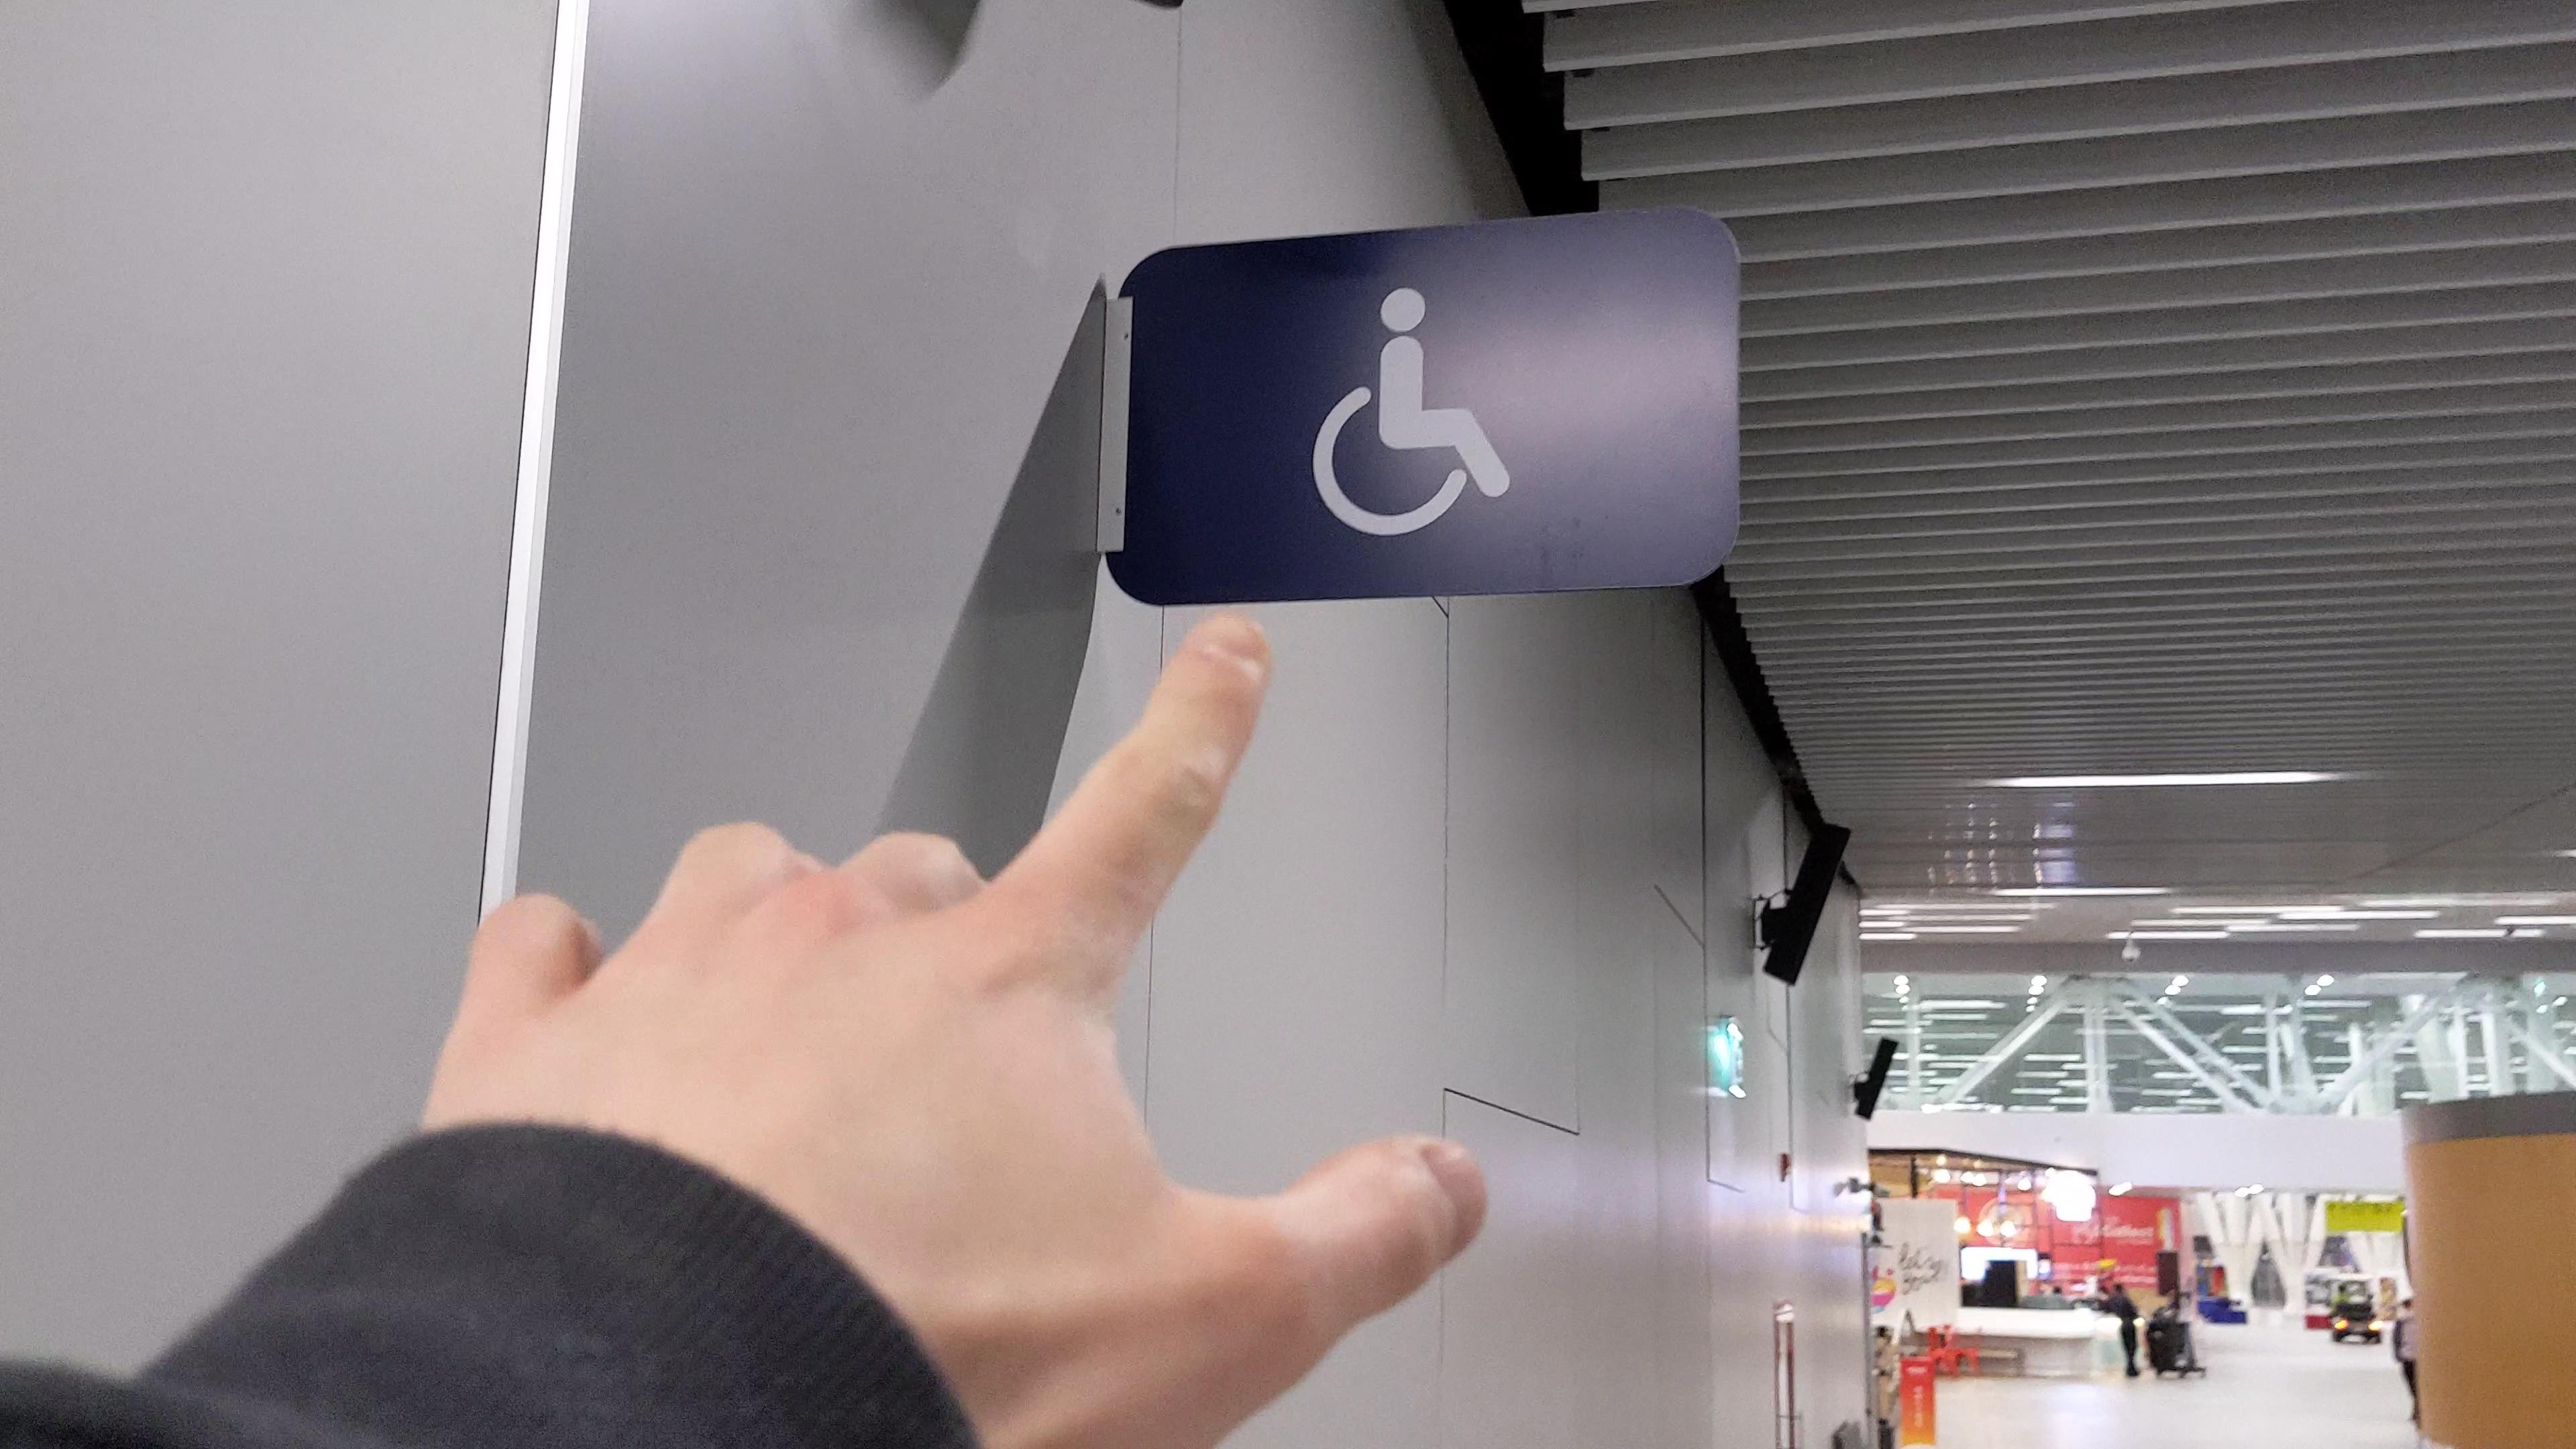handicapped symbol: (1300, 278, 1516, 545)
